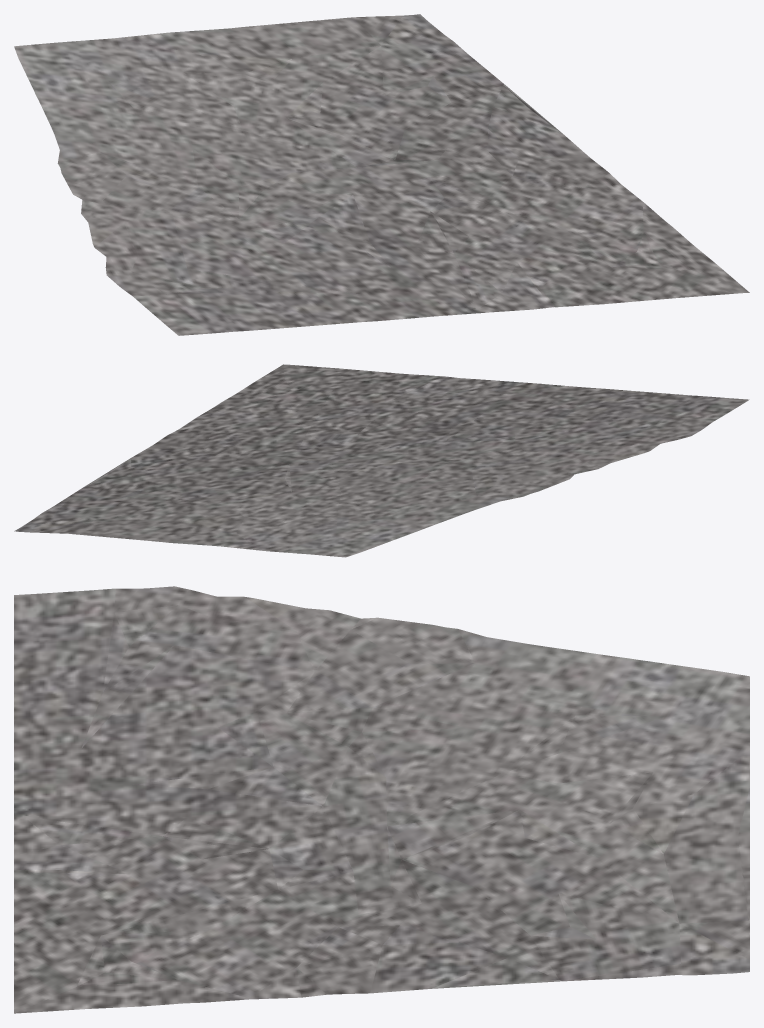
3 views of the same model, one above another, from view 1: azimuth 30°, elevation 25°; view 2: azimuth 150°, elevation 25°; view 3: azimuth 270°, elevation 25° (orthographic). The views are drawn at different scales.
Size of the model in its own units: 0.8374 by 0.1459 by 0.8373.
Materials: 2 (2 with a texture image).
